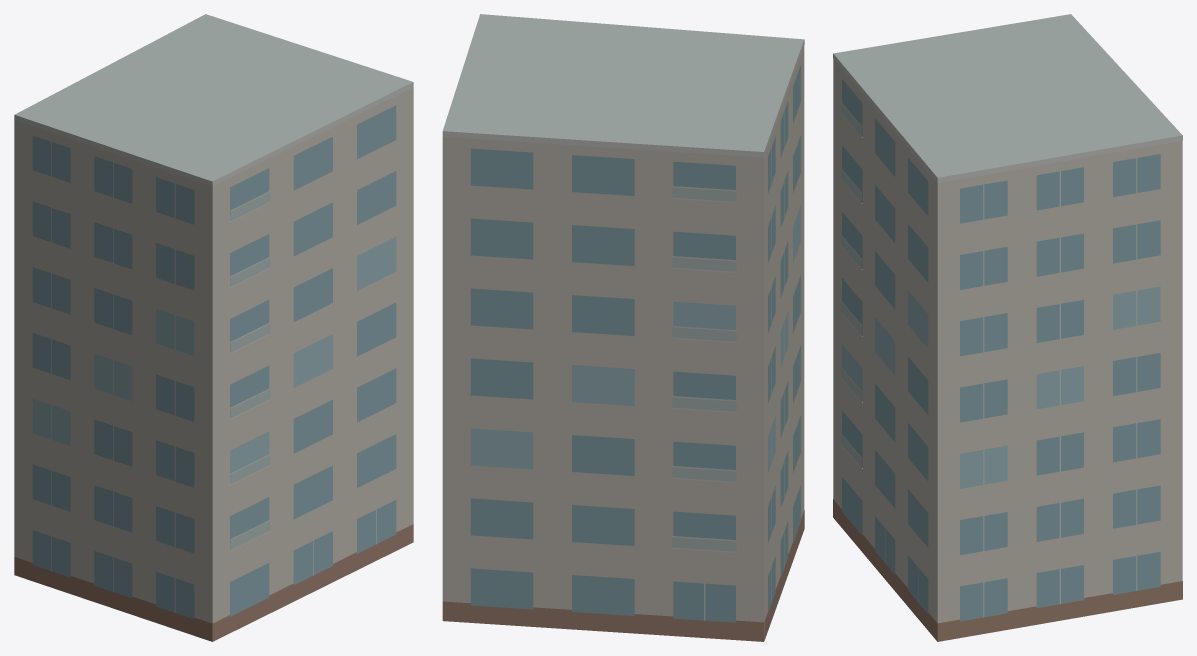
File: survey-upis-32838927.glb
3 views of the same model, side by side, from view 1: azimuth 30°, elevation 25°; view 2: azimuth 150°, elevation 25°; view 3: azimuth 270°, elevation 25° (orthographic). The views are drawn at different scales.
Parts seen in each view (by area): view 1: survey-upis-32838927.tmp; view 2: survey-upis-32838927.tmp; view 3: survey-upis-32838927.tmp.
Boxes of the visible parts, box(x1,y1,x2,y2) form: survey-upis-32838927.tmp: box(14, 14, 413, 641); survey-upis-32838927.tmp: box(442, 14, 804, 641); survey-upis-32838927.tmp: box(833, 14, 1182, 641).
Size of the model in its own units: 16.17 by 21.35 by 14.59.
